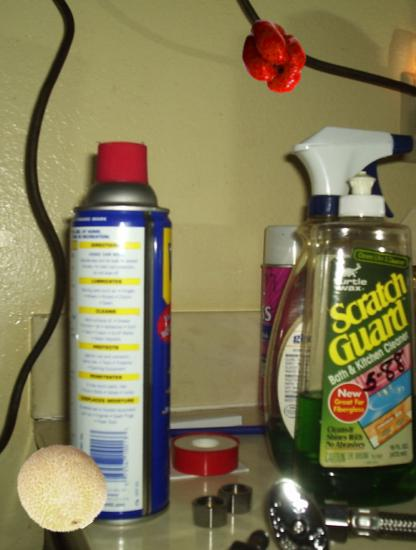Cantaloupe: (17, 443, 108, 534)
Pepper: (240, 23, 309, 92)
